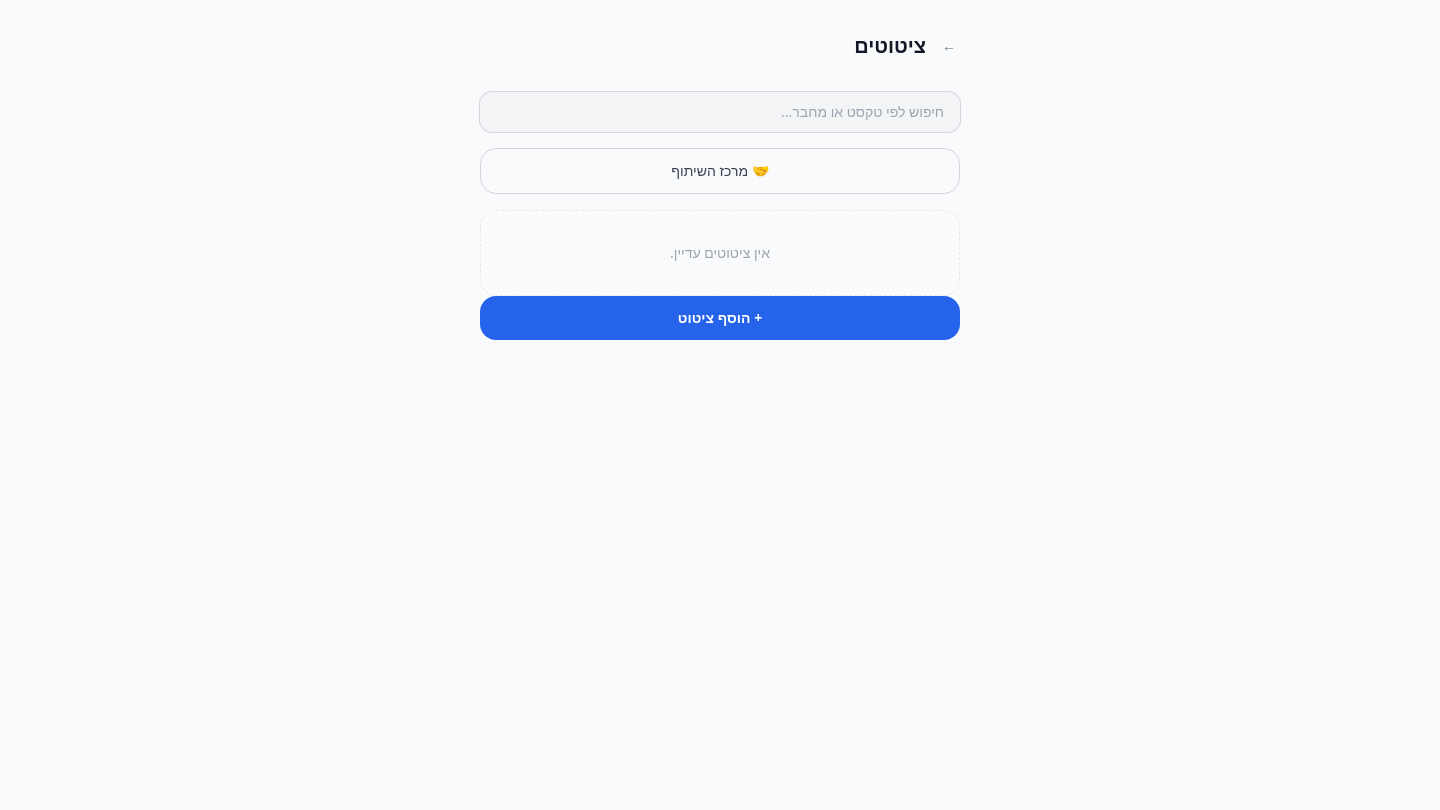
Test: CitationsScreen › applies author formatting on blur
Click the button "+ הוסף ציטוט": (720,318) [480, 296, 960, 340]
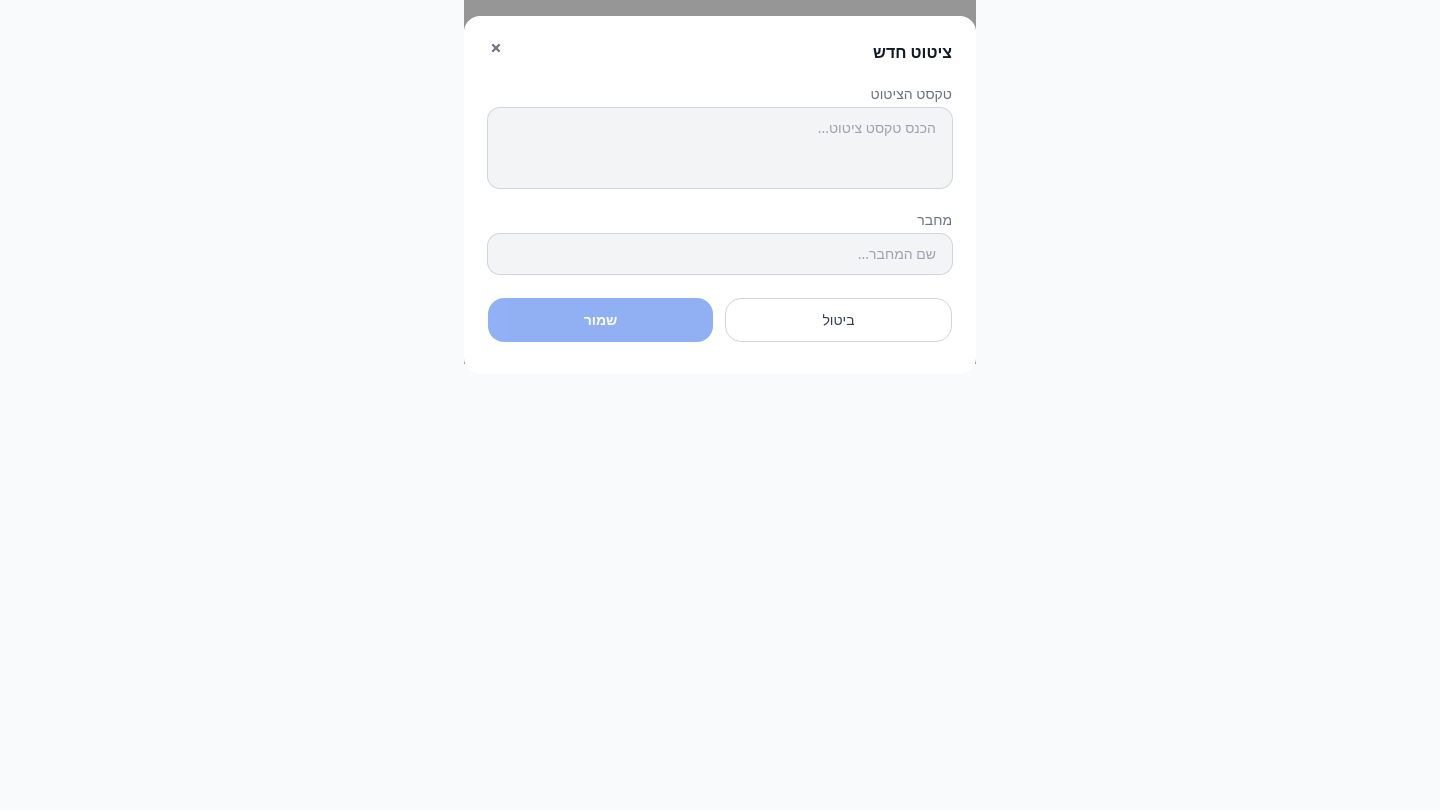
In the field with placeholder "שם המחבר...": (720,254) [488, 234, 952, 274], type "יוסי ישראלי"
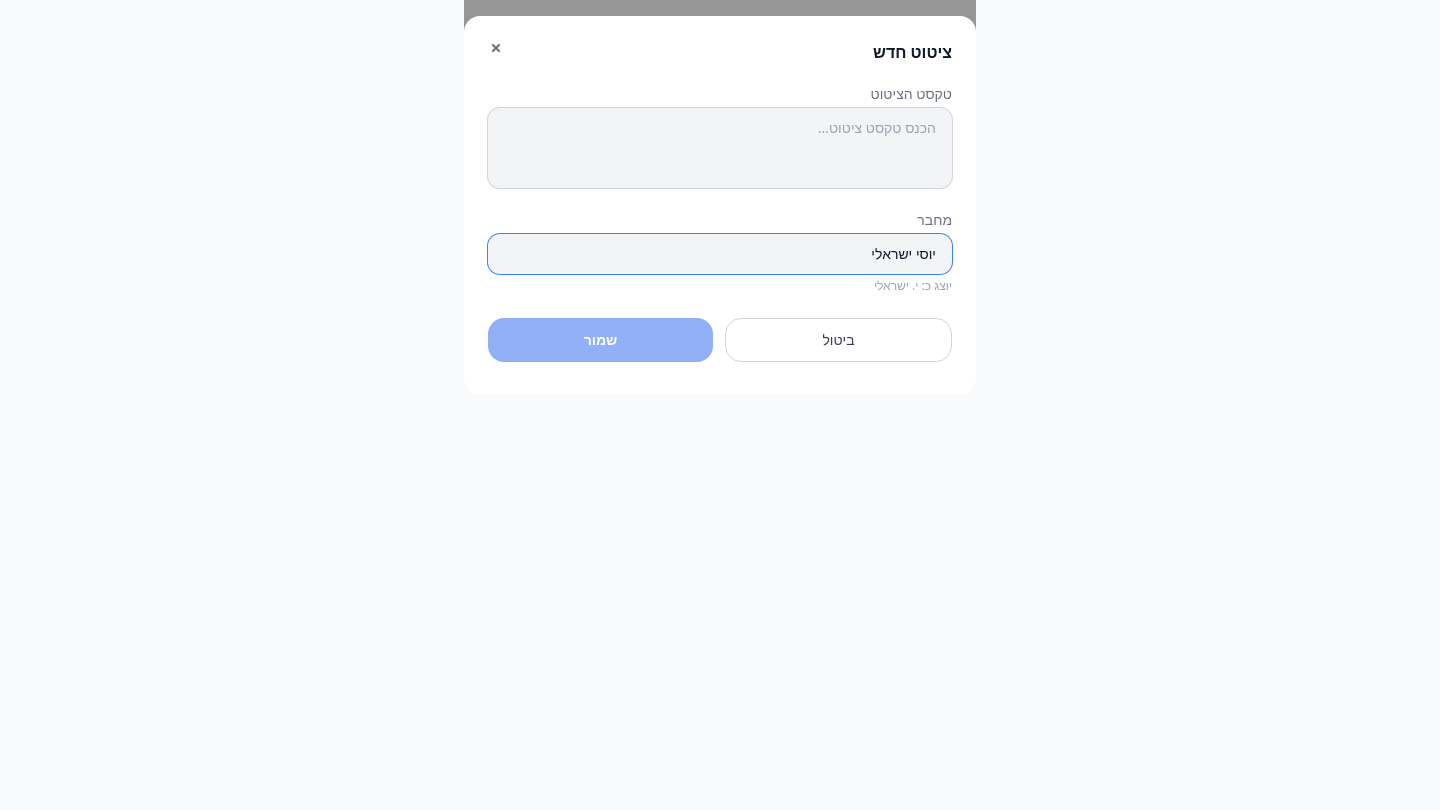
Press Tab
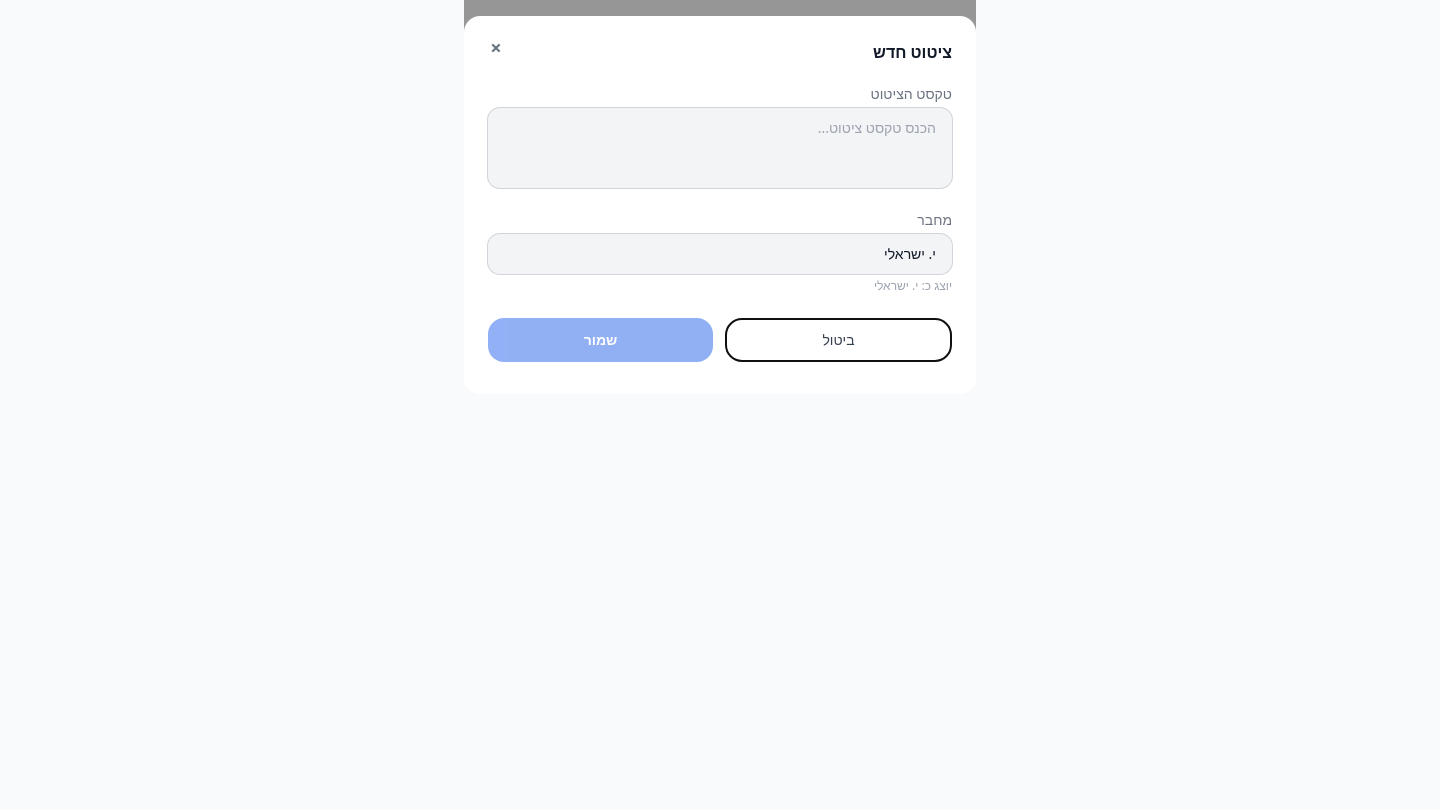
Expected: the field with placeholder "שם המחבר..." holds "י. ישראלי", [488, 234, 952, 274]
